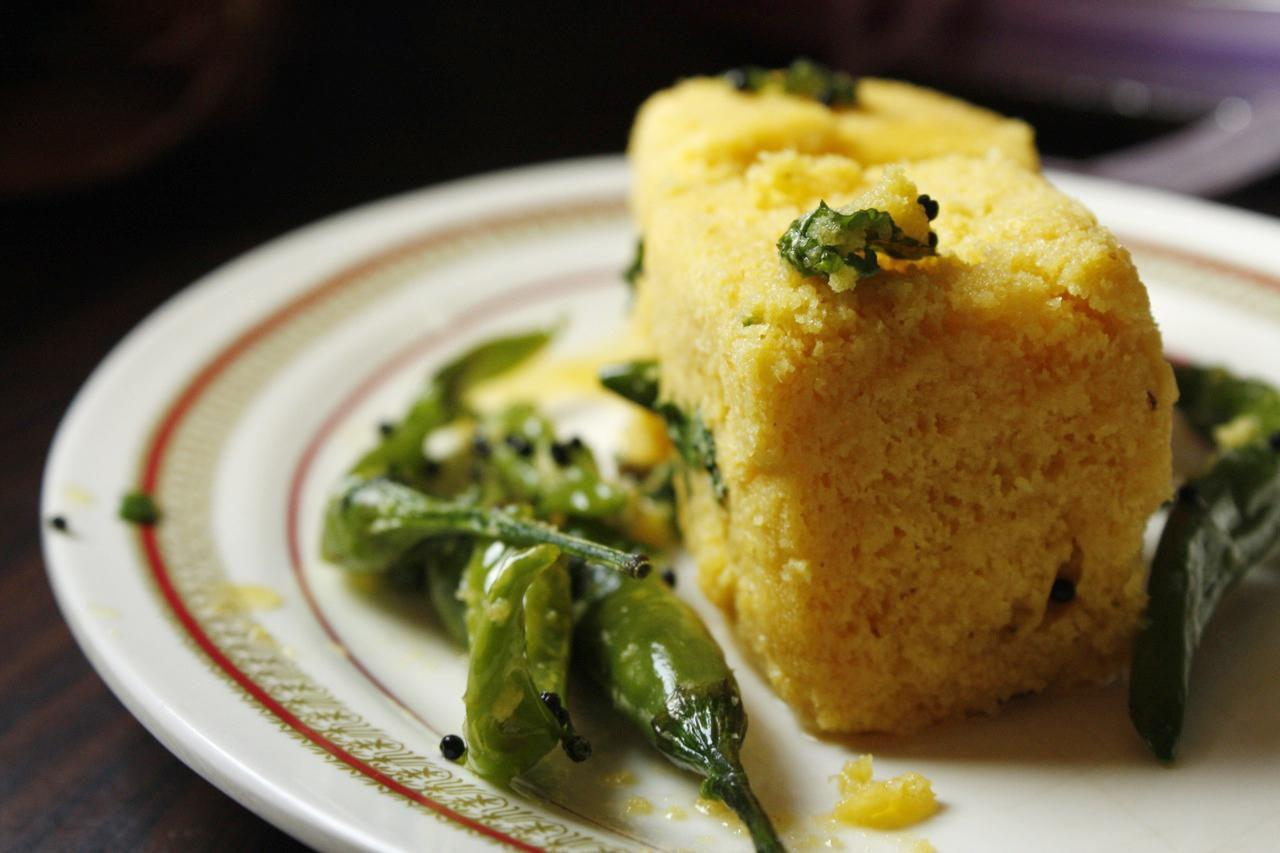dhokla: (625, 79, 1178, 720)
